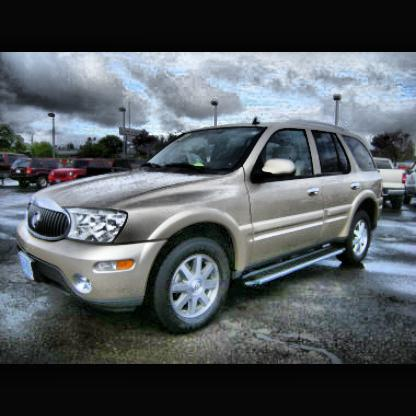Buick Rainier SUV 2007: (21, 120, 386, 330)
